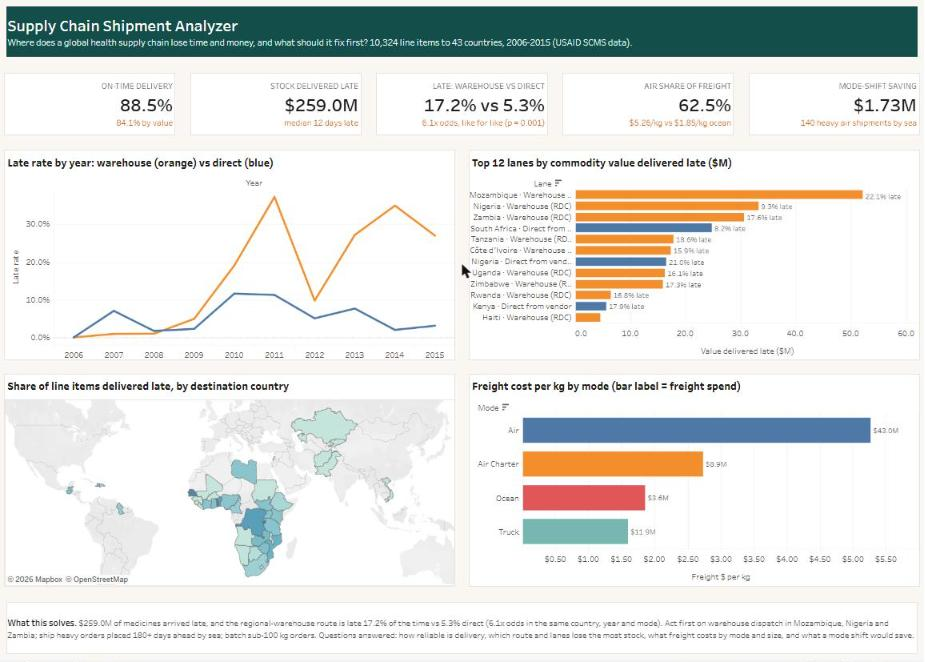

The page's visual inventory and layout, read from the dashboard file:
{"tool":"tableau","page":{"name":"Delivery & Freight Overview","canvas":[1400,1000],"ordinal":0},"visuals":[{"type":"text","box":[16,10,1368,94]},{"type":"worksheet","title":"KPI On-time","mark":"Text","box":[16,112,265.6,104]},{"type":"worksheet","title":"KPI Value late","mark":"Text","box":[291.6,112,265.6,104]},{"type":"worksheet","title":"KPI Warehouse vs direct","mark":"Text","box":[567.2,112,265.6,104]},{"type":"worksheet","title":"KPI Air share","mark":"Text","box":[842.8,112,265.6,104]},{"type":"worksheet","title":"KPI Mode shift","mark":"Text","box":[1118.4,112,265.6,104]},{"type":"worksheet","title":"Late rate by year","mark":"Line","rows":["Calc_late_rate"],"cols":["year"],"box":[16,226,680,324]},{"type":"worksheet","title":"Lanes by value late","mark":"Bar","rows":["lane"],"cols":["Calc_value_late"],"box":[704,226,680,324]},{"type":"worksheet","title":"Late rate by country","mark":"Multipolygon","box":[16,558,680,326]},{"type":"worksheet","title":"Freight cost by mode","mark":"Bar","rows":["mode"],"cols":["Calc_usd_kg"],"box":[704,558,680,326]},{"type":"text","box":[16,892,1368,96]}]}

Visuals, with their boxes in screenshot pixels (x1, y1, x2, y2), scaled from the page's 1400x1000 canvas onto the 925x662 screenshot:
text: select_region(11, 7, 914, 69)
"KPI On-time" worksheet (Text marks): select_region(11, 74, 186, 143)
"KPI Value late" worksheet (Text marks): select_region(193, 74, 368, 143)
"KPI Warehouse vs direct" worksheet (Text marks): select_region(375, 74, 550, 143)
"KPI Air share" worksheet (Text marks): select_region(557, 74, 732, 143)
"KPI Mode shift" worksheet (Text marks): select_region(739, 74, 914, 143)
"Late rate by year" worksheet (Line marks): select_region(11, 150, 460, 364)
"Lanes by value late" worksheet (Bar marks): select_region(465, 150, 914, 364)
"Late rate by country" worksheet (Multipolygon marks): select_region(11, 369, 460, 585)
"Freight cost by mode" worksheet (Bar marks): select_region(465, 369, 914, 585)
text: select_region(11, 591, 914, 654)
